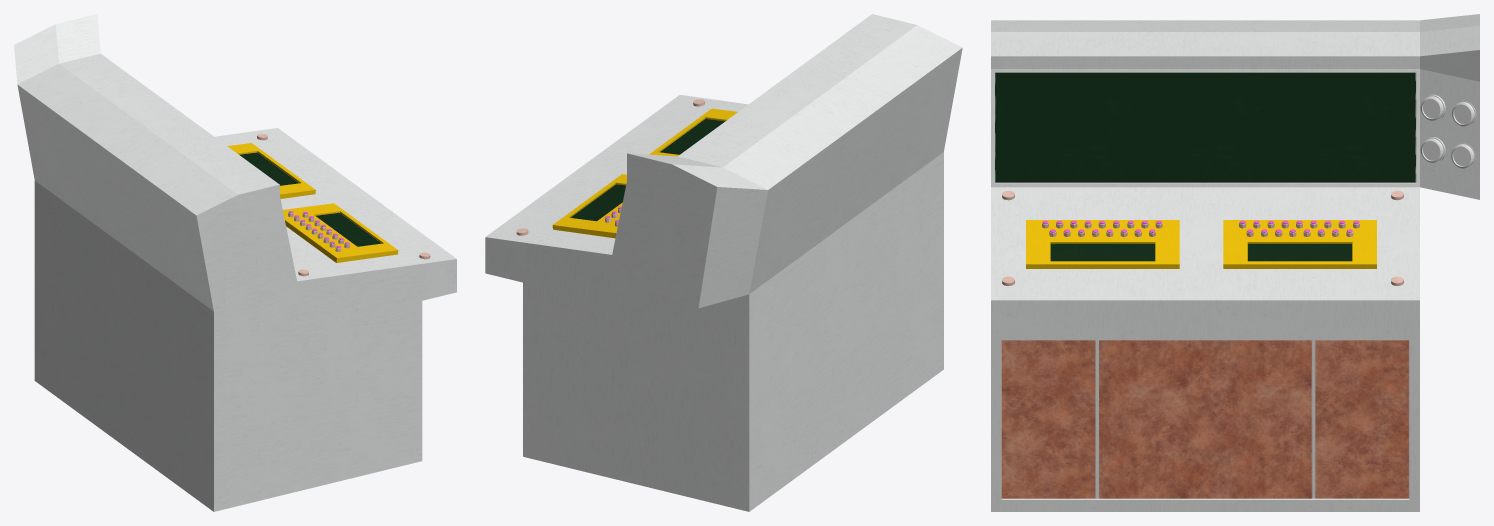
File: Control Panel_Right.fbx
The picture shows the model from 3 angles, left to right: view 1: azimuth 30°, elevation 25°; view 2: azimuth 150°, elevation 25°; view 3: azimuth 270°, elevation 25°; orthographic projection. The views are drawn at different scales.
Visible parts, largest first — view 1: ControlPanelRight; view 2: ControlPanelRight; view 3: ControlPanelRight.
Boxes of the visible parts, bbox=[...] form: ControlPanelRight: bbox=[14, 14, 456, 511]; ControlPanelRight: bbox=[485, 14, 962, 511]; ControlPanelRight: bbox=[991, 14, 1479, 511].
Bounding box in the file's own units: 120 × 144 × 163.
